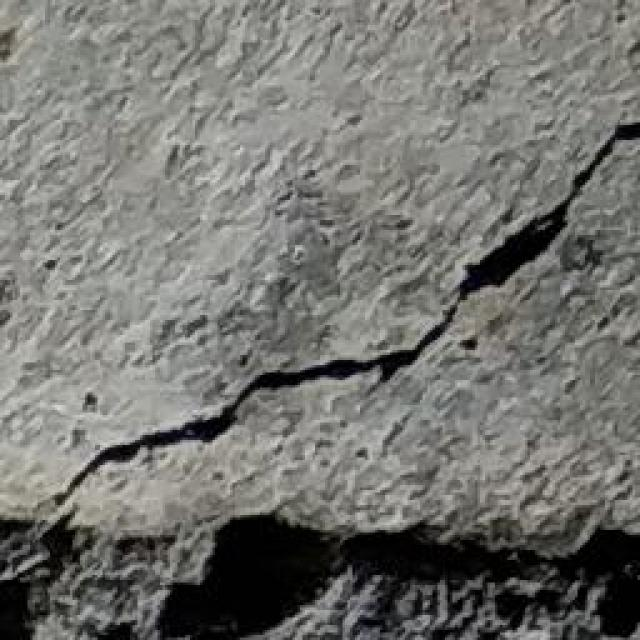Diagonal: (0, 101, 640, 553)
